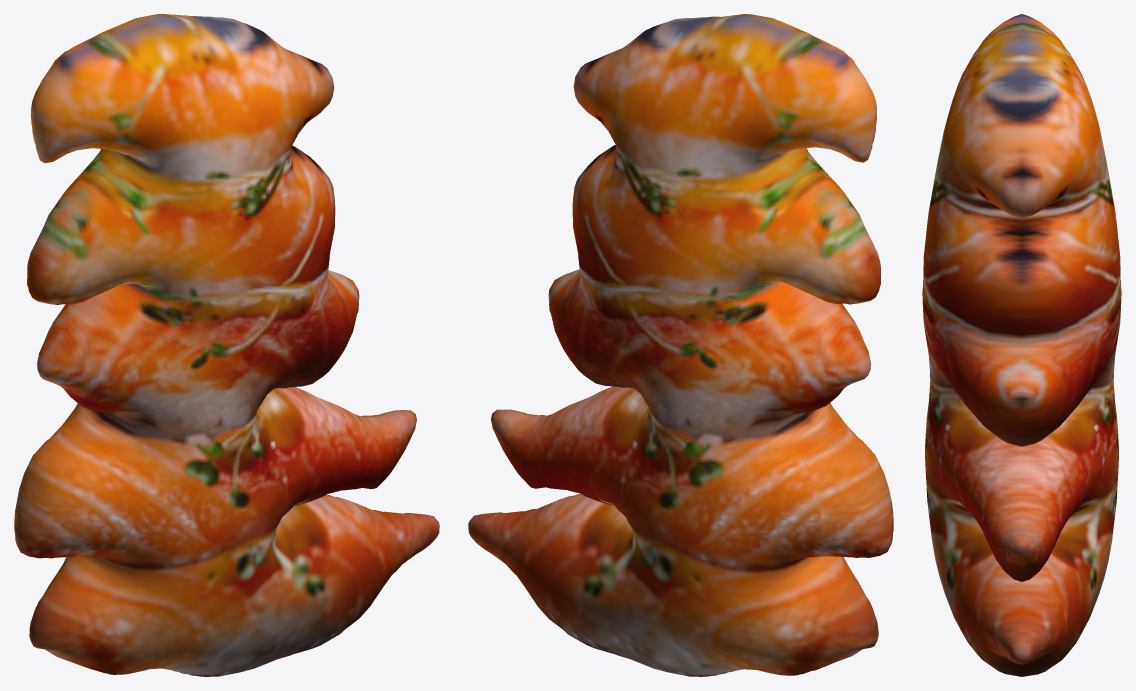
The model's file is fivesushi-v1.glb.
3 views of the same model, side by side, from view 1: azimuth 30°, elevation 25°; view 2: azimuth 150°, elevation 25°; view 3: azimuth 270°, elevation 25° (orthographic). The views are drawn at different scales.
Visible parts, largest first — view 1: fdd8c7ae-13bd-469e-ab39-e76f5fc0a147; view 2: fdd8c7ae-13bd-469e-ab39-e76f5fc0a147; view 3: fdd8c7ae-13bd-469e-ab39-e76f5fc0a147.
Part boxes in pixels (left/top/right/bottom): fdd8c7ae-13bd-469e-ab39-e76f5fc0a147: left=14, top=14, right=439, bottom=676; fdd8c7ae-13bd-469e-ab39-e76f5fc0a147: left=468, top=14, right=893, bottom=676; fdd8c7ae-13bd-469e-ab39-e76f5fc0a147: left=922, top=14, right=1121, bottom=676.
Size of the model in its own units: 0.6676 by 1 by 0.3161.
1 material, 1 textured.
